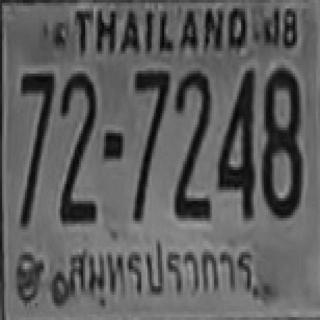N02: (59, 71, 97, 204), (174, 71, 211, 204), (175, 68, 210, 192)
N04: (216, 66, 254, 216)
N07: (19, 71, 52, 207), (133, 68, 168, 178), (19, 71, 52, 178), (133, 68, 168, 164), (19, 71, 52, 164), (133, 68, 168, 150)
N08: (260, 65, 299, 215)
P57: (59, 238, 258, 302)
